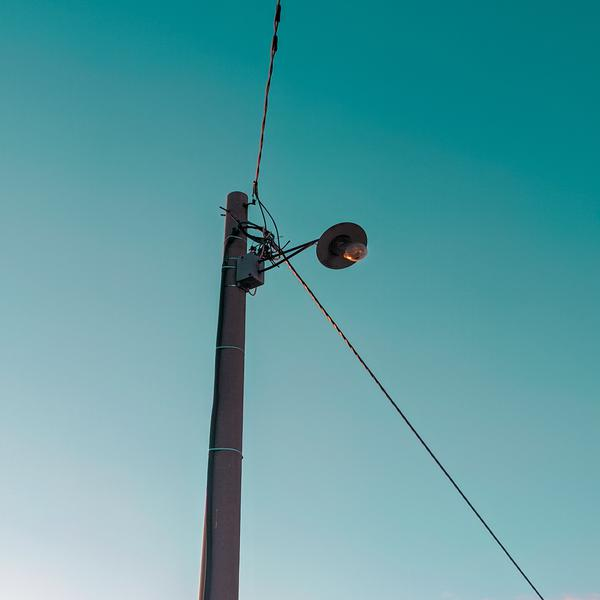utility_pole: (195, 175, 378, 349)
